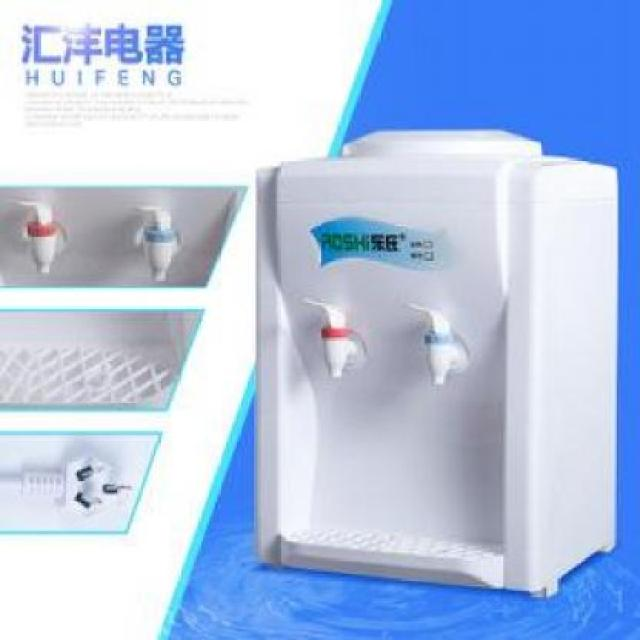cooler: (252, 129, 622, 602)
